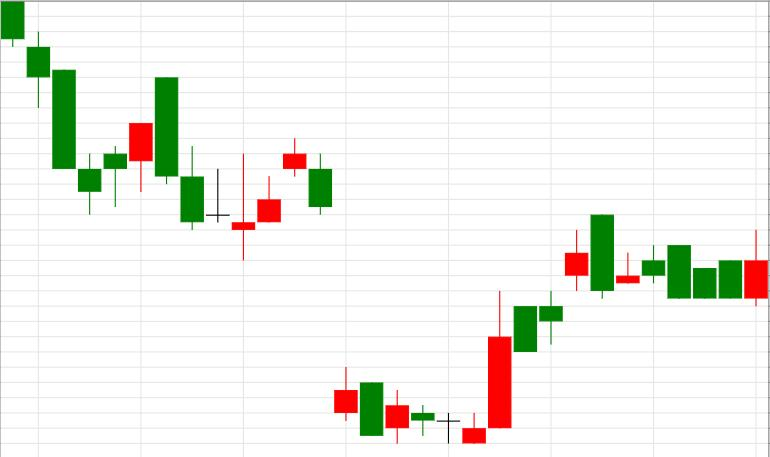bearish_engulfing_fall: (463, 214, 614, 444)
